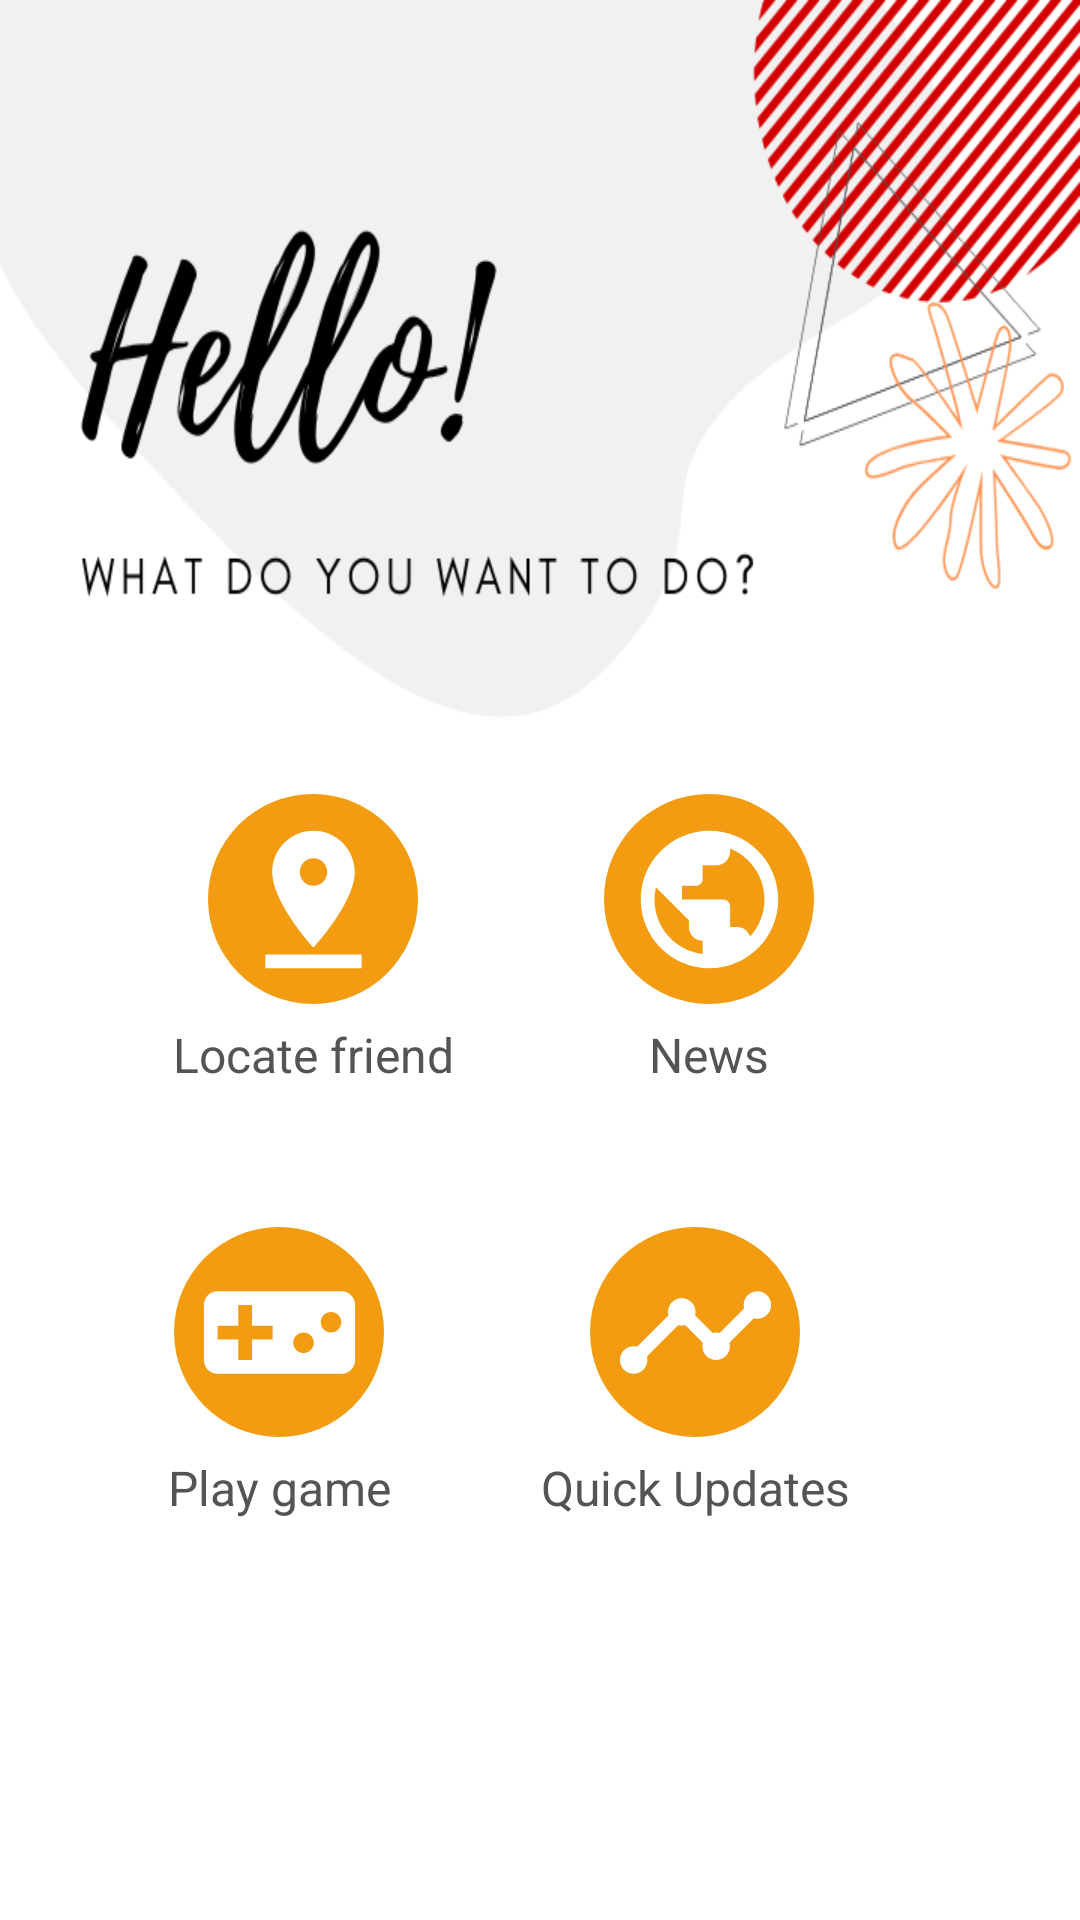

Icons on this 1080 x 1920 Android screen, each with its box as (x1, y1, x2, y2):
pin drop: (208, 794, 418, 1004)
public: (604, 794, 814, 1004)
timeline: (590, 1227, 800, 1437)
videogame: (174, 1227, 384, 1437)
